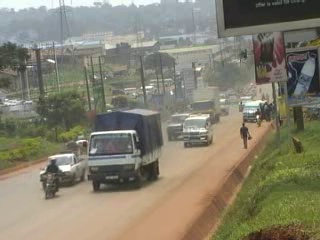Car: (165, 111, 191, 142)
Motorcycle: (38, 156, 65, 200), (71, 132, 87, 153), (252, 108, 264, 128)
